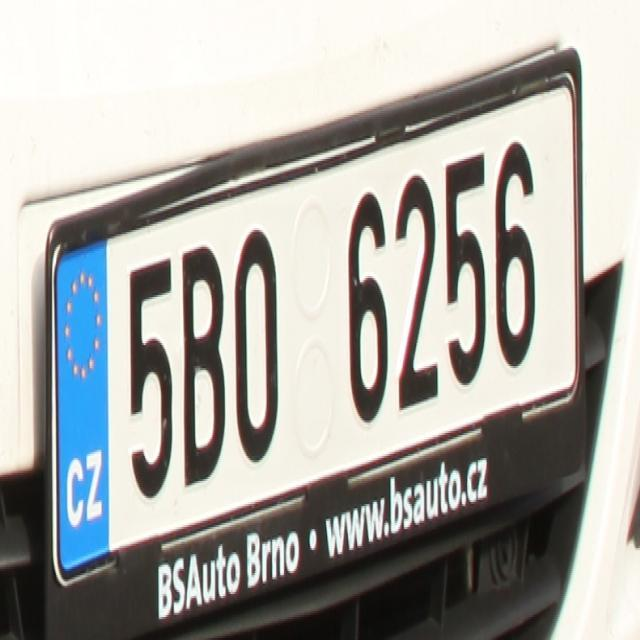0: (234, 226, 280, 460)
2: (393, 168, 441, 416)
5: (124, 260, 175, 500), (443, 150, 488, 382)
6: (345, 188, 390, 422), (495, 134, 536, 370)
B: (178, 242, 226, 490)
